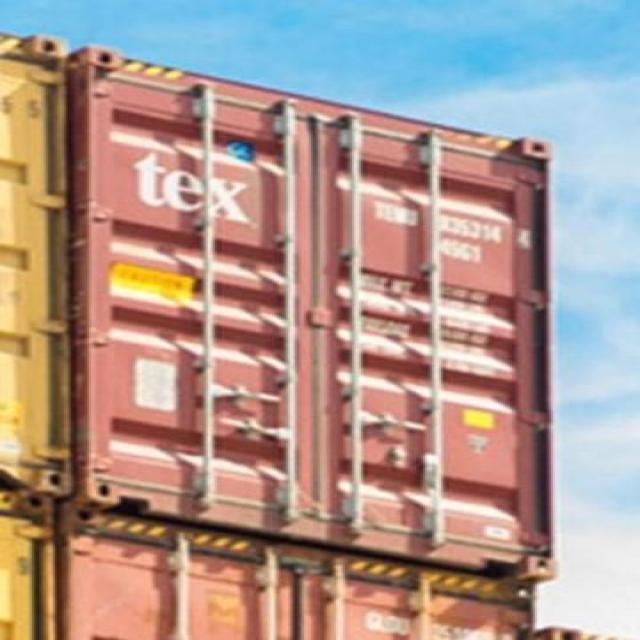ISO: (434, 238, 486, 266)
container_number: (380, 199, 534, 246)
